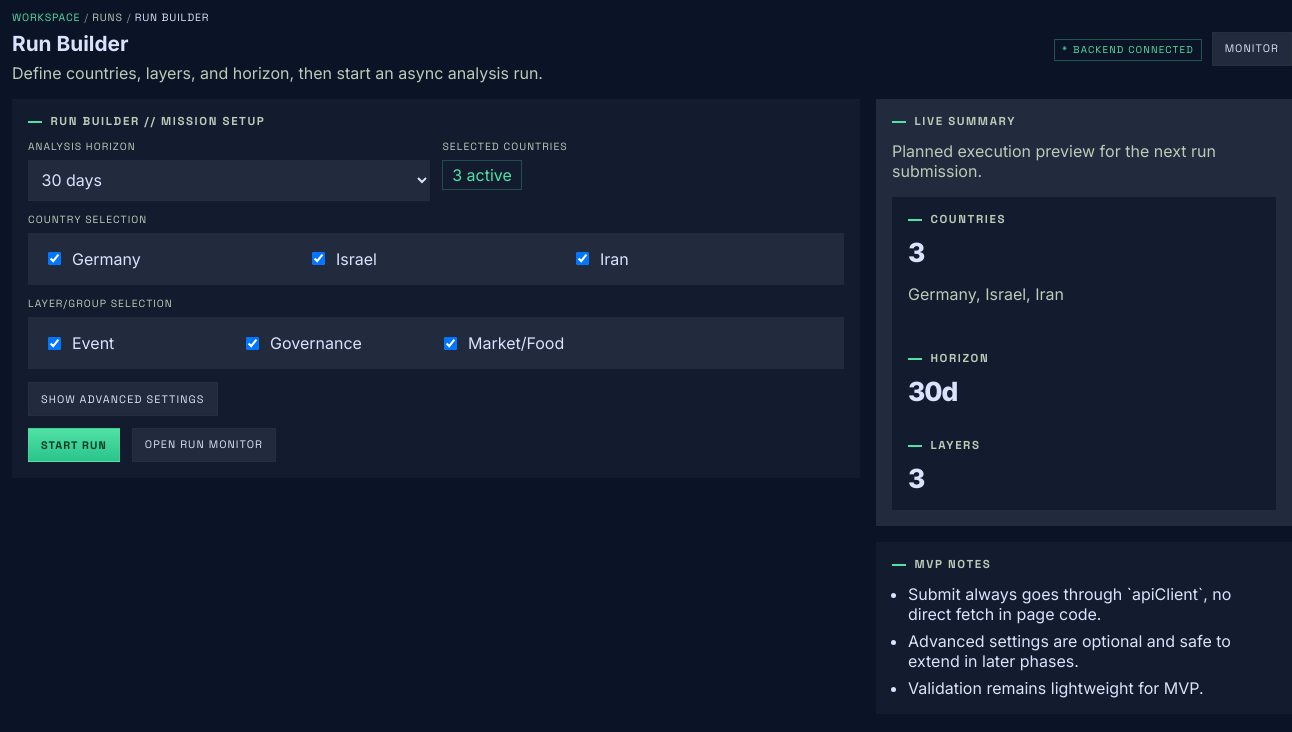
Test: RunBuilderForm › submits run request via api client and shows success state
This screenshot has width=1292, height=732.
Expected: the checkbox with test id "run-builder-country-toggle-germany" is shown, [48,252,61,266]
Expected: the checkbox with test id "run-builder-layer-toggle-event" is shown, [48,337,61,350]
What coordinates should you click on to do the following:
click the button "Start Run"
I would click on:
 (74, 445)
Its box is [28,428,120,462].
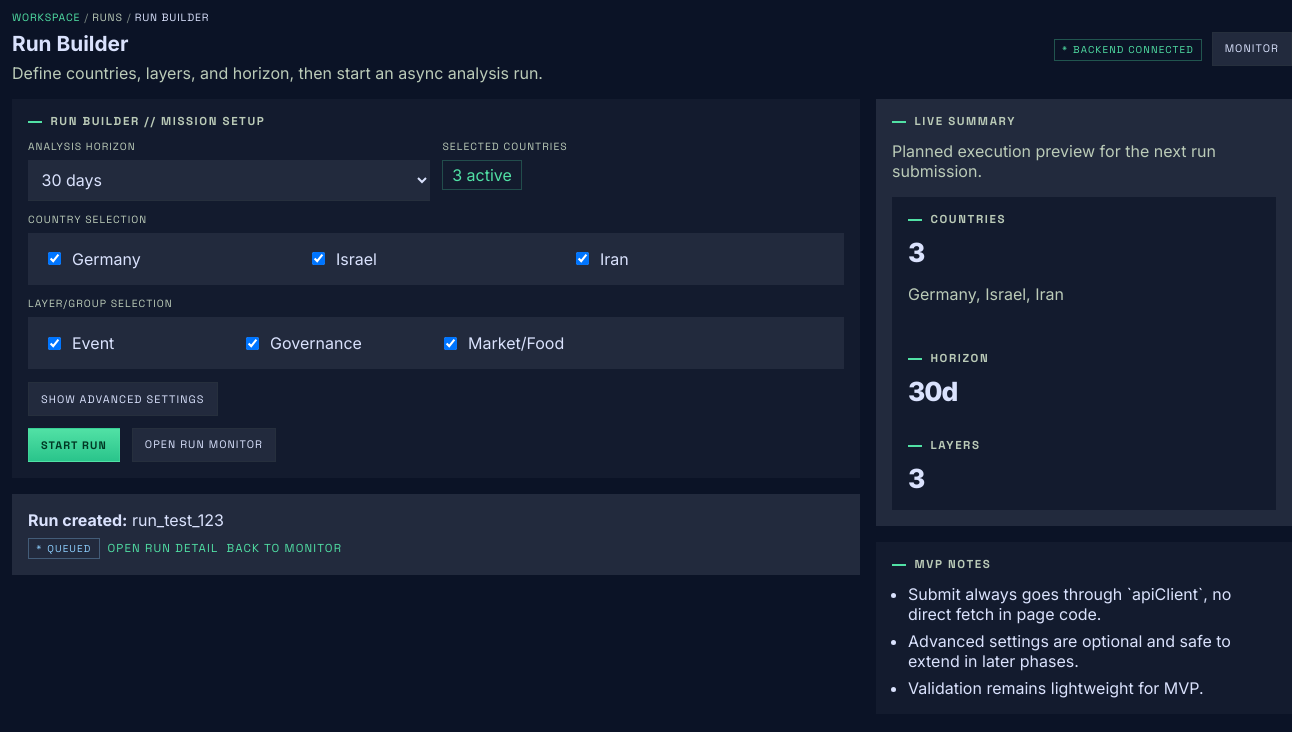
Expected: the text "Run created:" is shown, [28,510,127,530]
Expected: the text "run_test_123" is shown, [132,510,224,530]
